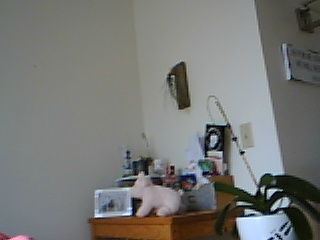piggy: (129, 170, 185, 216)
